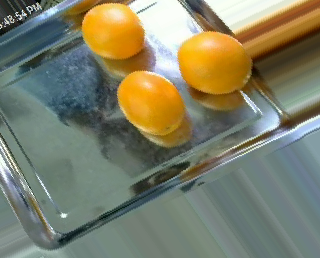Orange: (175, 31, 252, 94), (116, 70, 184, 135), (80, 2, 145, 58)
